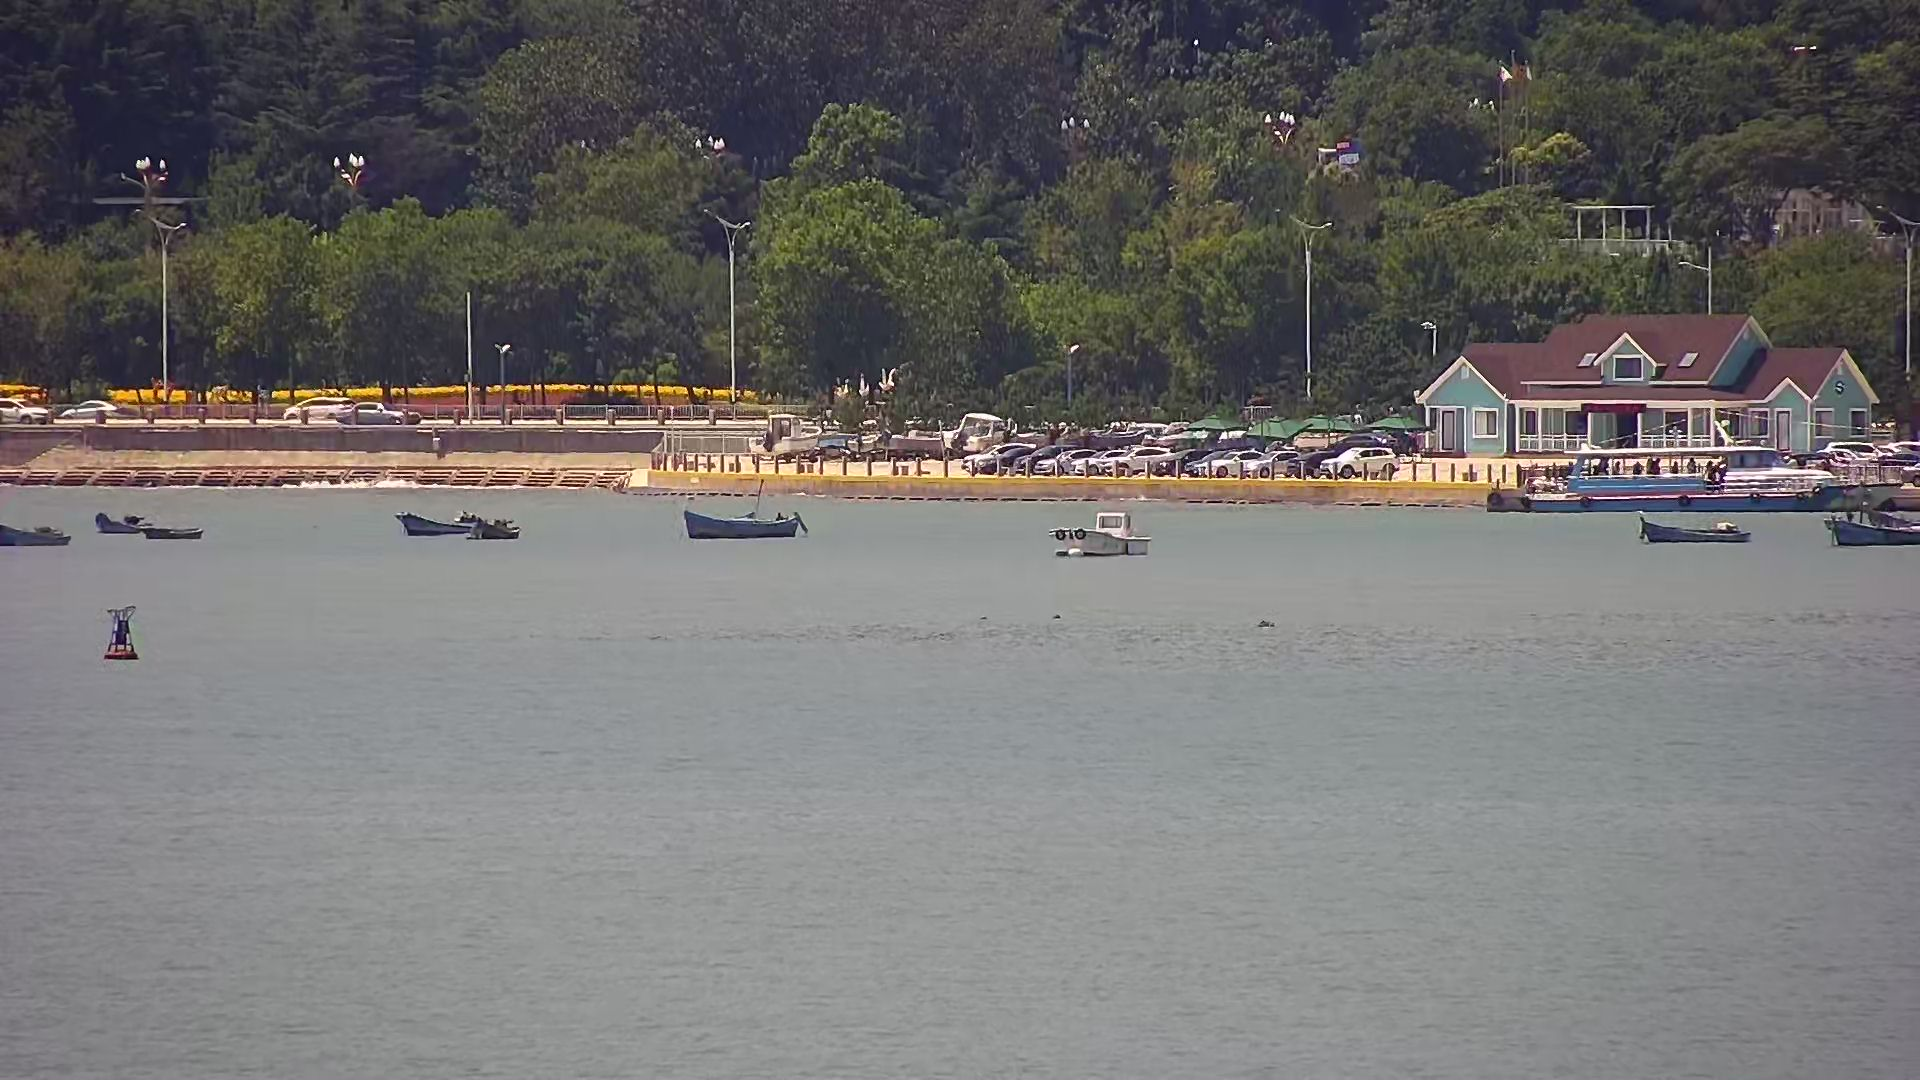boat: (665, 489, 812, 549), (1047, 508, 1156, 563), (1821, 502, 1920, 553), (1636, 513, 1759, 549), (1, 520, 76, 554), (396, 512, 475, 538), (469, 506, 524, 545), (141, 516, 208, 543), (98, 505, 156, 535)
buoy: (105, 595, 140, 667)
